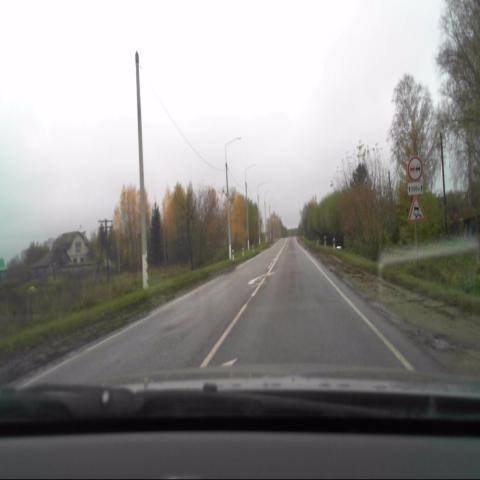1_15: (407, 200, 425, 221)
